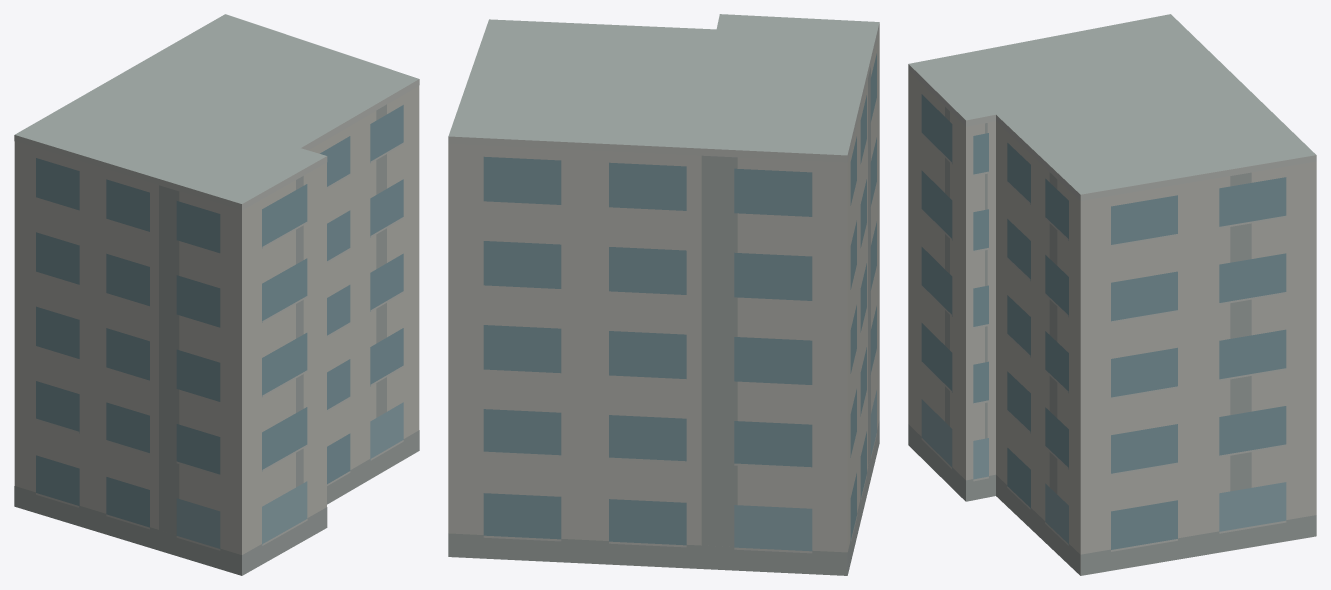
The model's file is survey-upis-33023434.glb.
3 renders of one model, left to right at view 1: azimuth 30°, elevation 25°; view 2: azimuth 150°, elevation 25°; view 3: azimuth 270°, elevation 25°, orthographic. The views are drawn at different scales.
Parts seen in each view (by area): view 1: survey-upis-33023434.tmp; view 2: survey-upis-33023434.tmp; view 3: survey-upis-33023434.tmp.
Part boxes in pixels (x1,y1,x2,y2): survey-upis-33023434.tmp: (14,14,419,575); survey-upis-33023434.tmp: (448,14,879,575); survey-upis-33023434.tmp: (908,14,1316,575).
Bounding box in the file's own units: 14.44 × 14.2 × 13.79.
